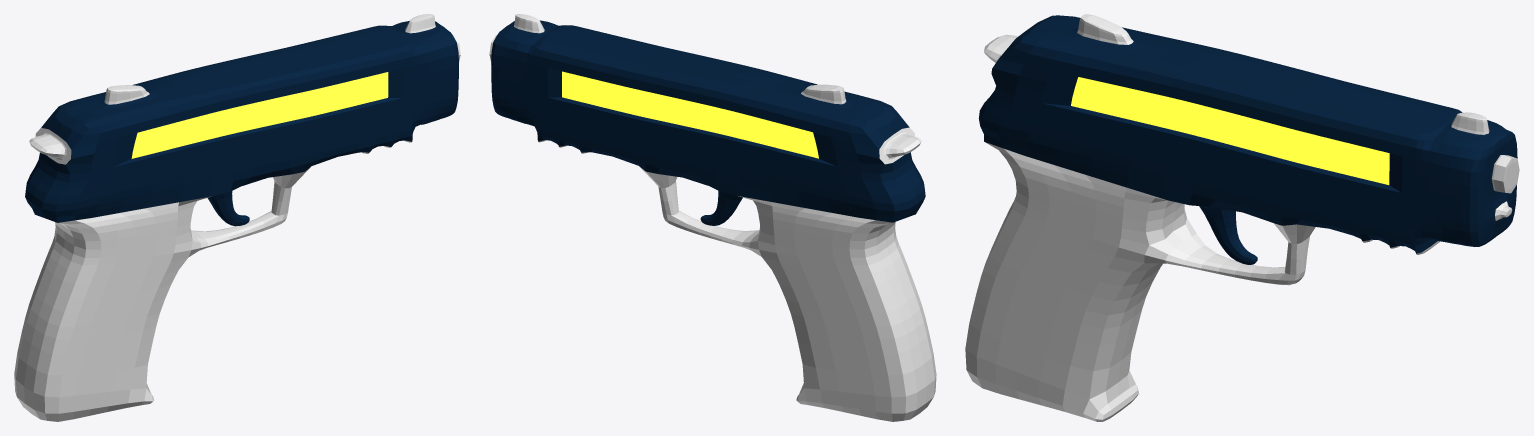
File: Overtime_Gun 1.fbx
3 views of the same model, side by side, from view 1: azimuth 30°, elevation 25°; view 2: azimuth 150°, elevation 25°; view 3: azimuth 330°, elevation 25° (orthographic). The views are drawn at different scales.
Visible parts, largest first — view 1: Gun_basic.001; view 2: Gun_basic.001; view 3: Gun_basic.001.
Part boxes in pixels (x1=…): Gun_basic.001: x1=14, y1=14, x2=460, y2=421; Gun_basic.001: x1=489, y1=14, x2=936, y2=421; Gun_basic.001: x1=965, y1=14, x2=1519, y2=421.
Bounding box in the file's own units: 271 × 188 × 39.88.
